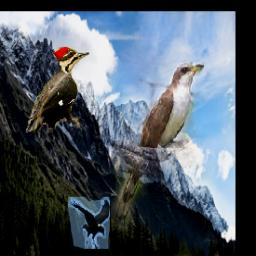Crow: (69, 198, 111, 250)
Cuckoo: (111, 62, 204, 232)
Woodpecker: (26, 47, 89, 133)
